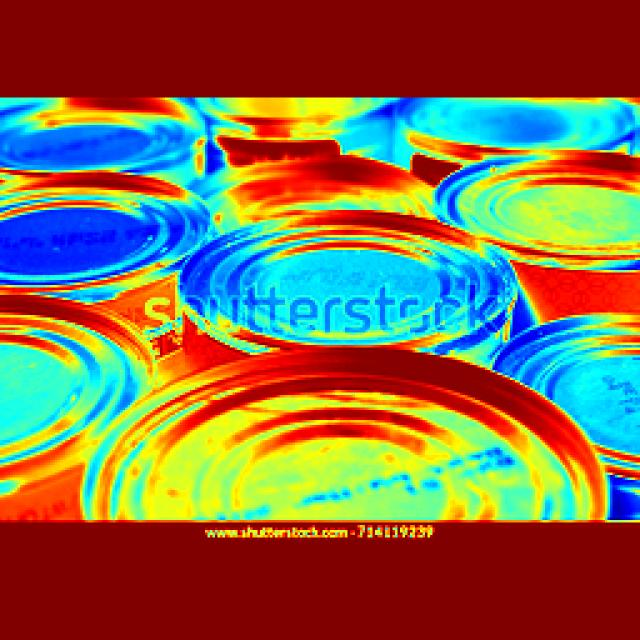Aluminium Food Cans: (111, 350, 603, 524), (180, 219, 507, 365), (0, 292, 150, 502), (0, 170, 209, 310), (445, 147, 640, 285), (212, 143, 433, 228)
